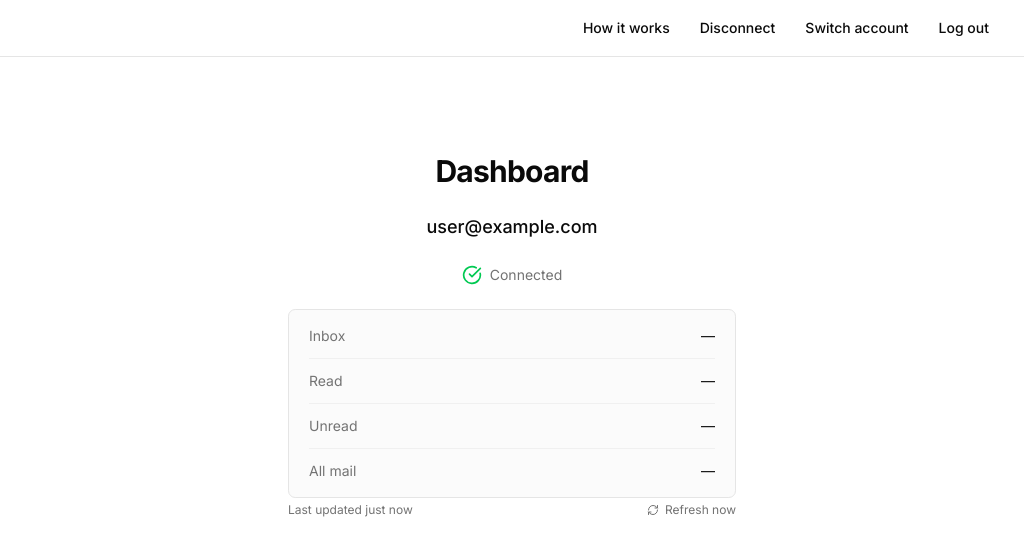
Test: Dashboard page › disconnect › shows ready to connect after disconnect
Click the button "Disconnect" at (738, 28), box [689, 12, 786, 44]
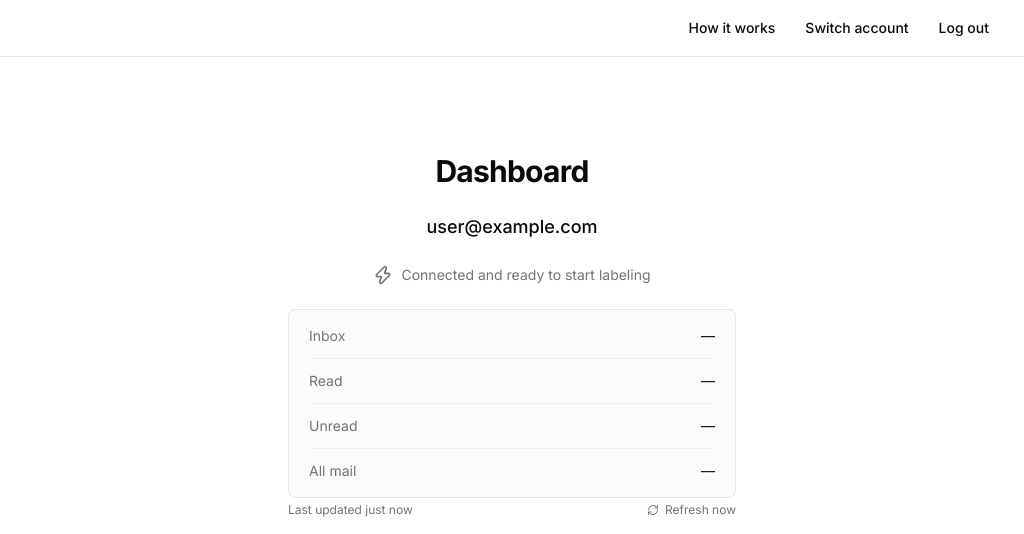
Expected: the text "Connected and ready to start labeling" is shown, [402, 265, 650, 285]
